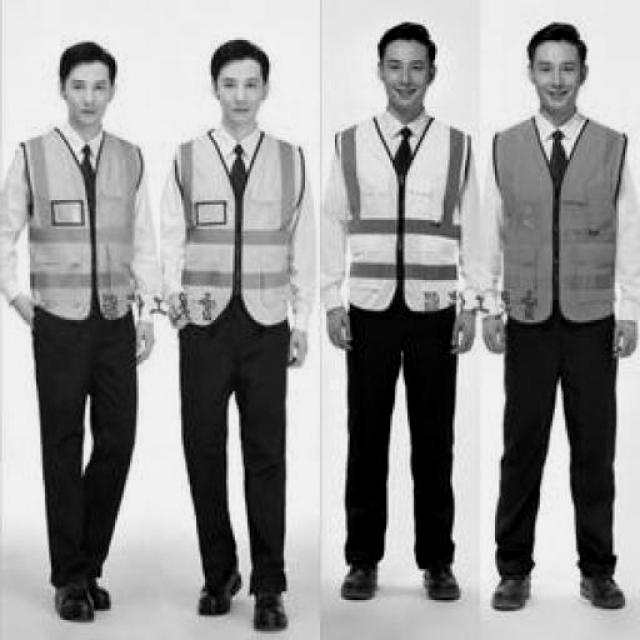face_nomask: (217, 73, 267, 119), (534, 58, 584, 104), (381, 57, 431, 102), (68, 73, 110, 117)
hand_noglove: (120, 312, 165, 366), (320, 306, 358, 358), (605, 308, 640, 362), (448, 308, 478, 356), (480, 308, 510, 354), (284, 324, 312, 371)
head_nohelmet: (524, 19, 595, 59), (374, 17, 444, 54), (58, 40, 122, 78), (207, 38, 273, 72)
person: (316, 16, 485, 606), (0, 25, 163, 628), (481, 16, 640, 616), (164, 23, 318, 625)
shoes: (192, 557, 250, 621), (570, 556, 634, 612), (484, 562, 545, 616), (45, 572, 100, 628), (244, 576, 298, 630), (334, 555, 387, 609), (415, 558, 466, 608)
vest: (495, 116, 631, 333), (335, 115, 476, 311), (181, 124, 310, 324), (28, 124, 148, 318)
